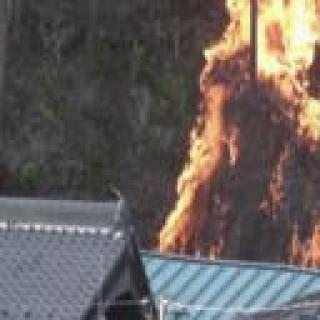fire: (155, 0, 320, 271)
